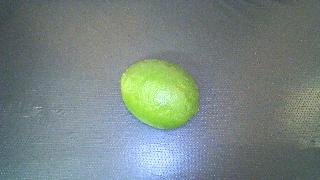EXPORTACION: (120, 59, 199, 129)
